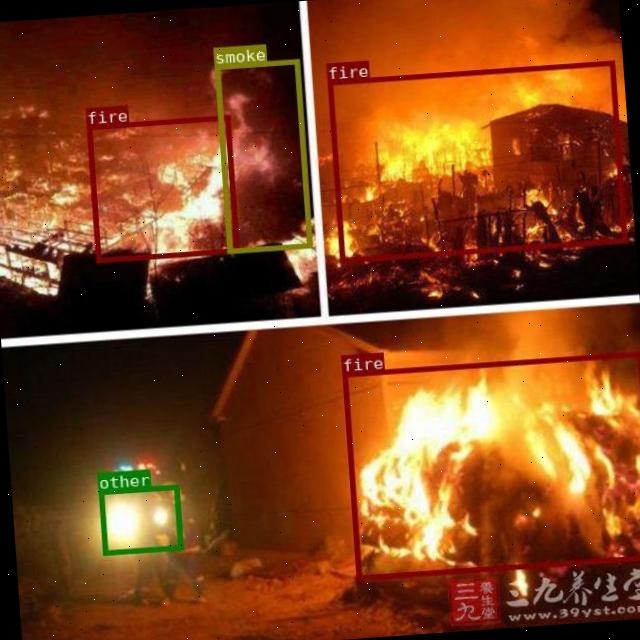fire: (340, 352, 640, 579), (327, 60, 626, 262), (86, 115, 238, 262)
smoke: (214, 59, 312, 252)
